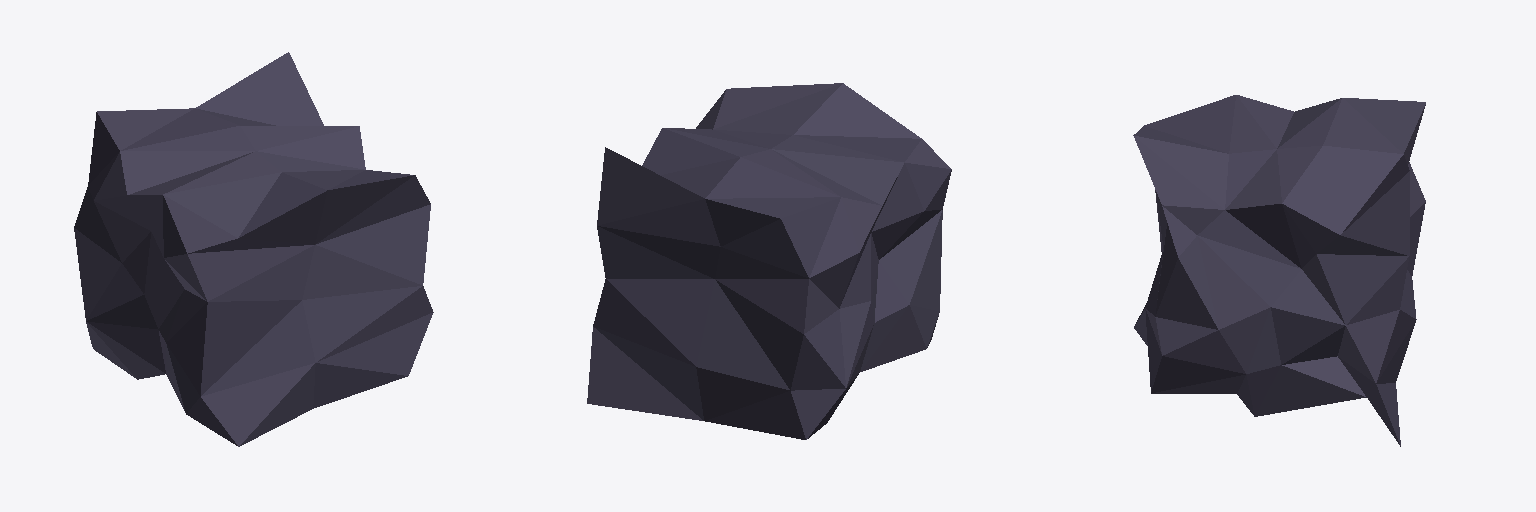
File: ore.obj
3 renders of one model, left to right at view 1: azimuth 30°, elevation 25°; view 2: azimuth 150°, elevation 25°; view 3: azimuth 270°, elevation 25°, orthographic.
Visible parts, largest first — view 1: Cube; view 2: Cube; view 3: Cube.
Boxes of the visible parts, box(x1,y1,x2,y2) form: Cube: box(74, 52, 433, 446); Cube: box(587, 83, 951, 439); Cube: box(1133, 95, 1425, 446).
Bounding box in the file's own units: 1 × 1 × 1.